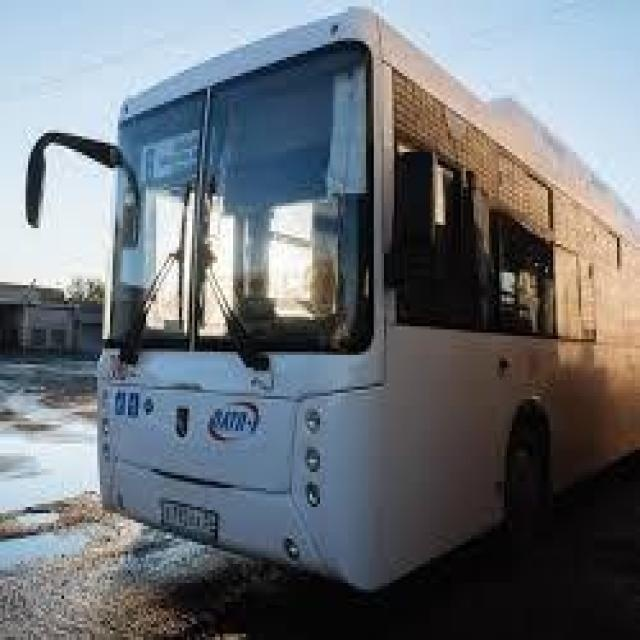Bus: (13, 6, 640, 612)
